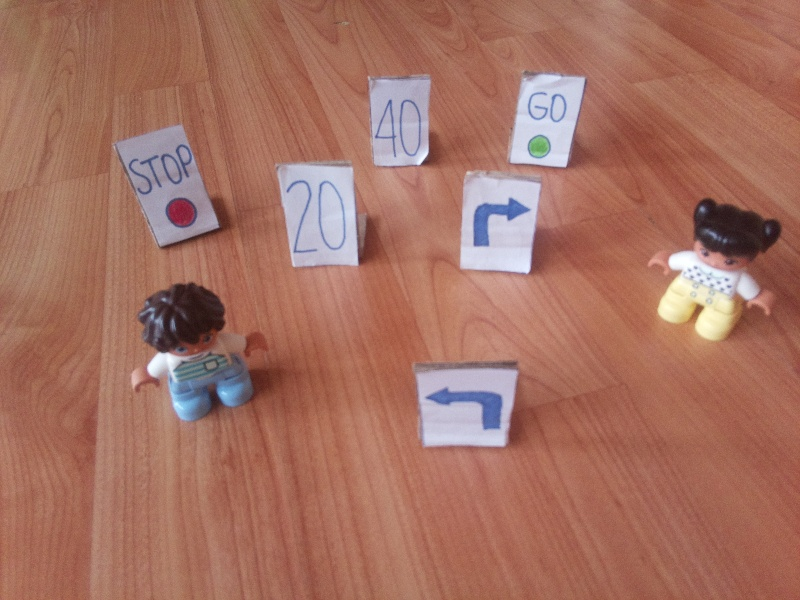20: (283, 173, 349, 256)
40: (375, 95, 425, 159)
go: (524, 84, 570, 162)
person: (646, 192, 790, 343), (120, 283, 276, 416)
stop: (126, 141, 207, 228)
turn left: (428, 377, 507, 441)
turn right: (466, 188, 531, 255)
